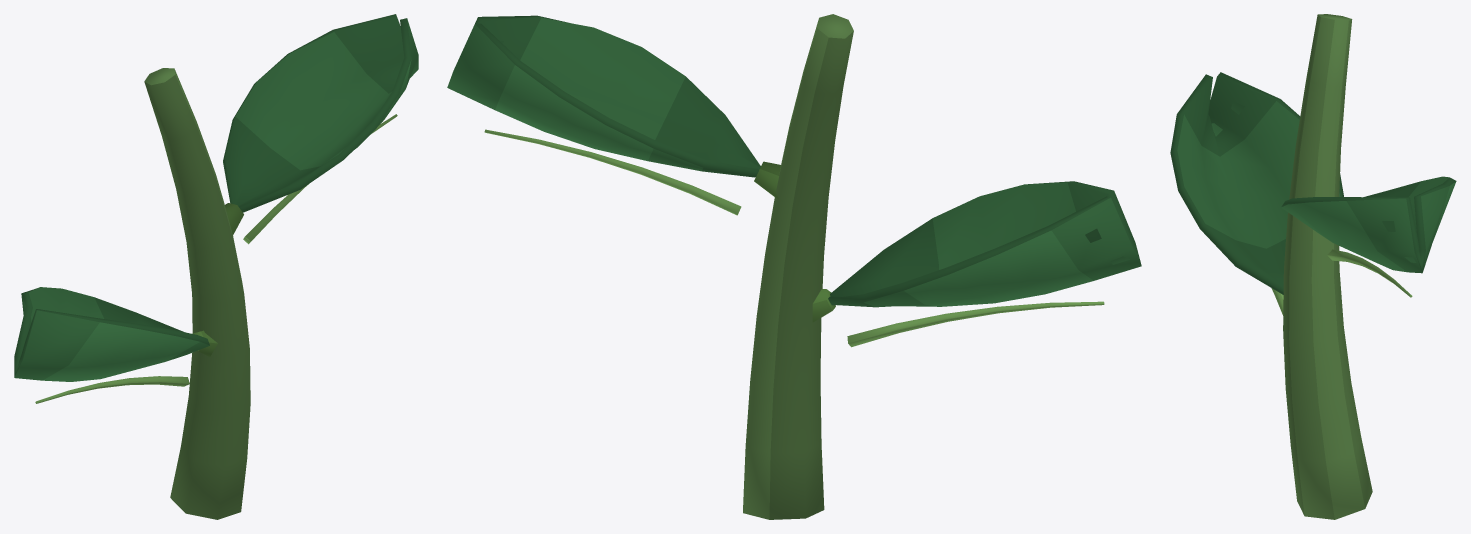
Rendered from garden-orchid-sprout-stem-0.glb.
The picture shows the model from 3 angles, left to right: view 1: azimuth 30°, elevation 25°; view 2: azimuth 150°, elevation 25°; view 3: azimuth 270°, elevation 25°; orthographic projection. The views are drawn at different scales.
Visible parts, largest first — view 1: orchid-sprout-stem-0; view 2: orchid-sprout-stem-0; view 3: orchid-sprout-stem-0.
Boxes of the visible parts, bbox=[...] form: orchid-sprout-stem-0: bbox=[14, 14, 418, 519]; orchid-sprout-stem-0: bbox=[447, 14, 1141, 519]; orchid-sprout-stem-0: bbox=[1170, 14, 1456, 519].
Size of the model in its own units: 0.1104 by 0.0926 by 0.0511.
